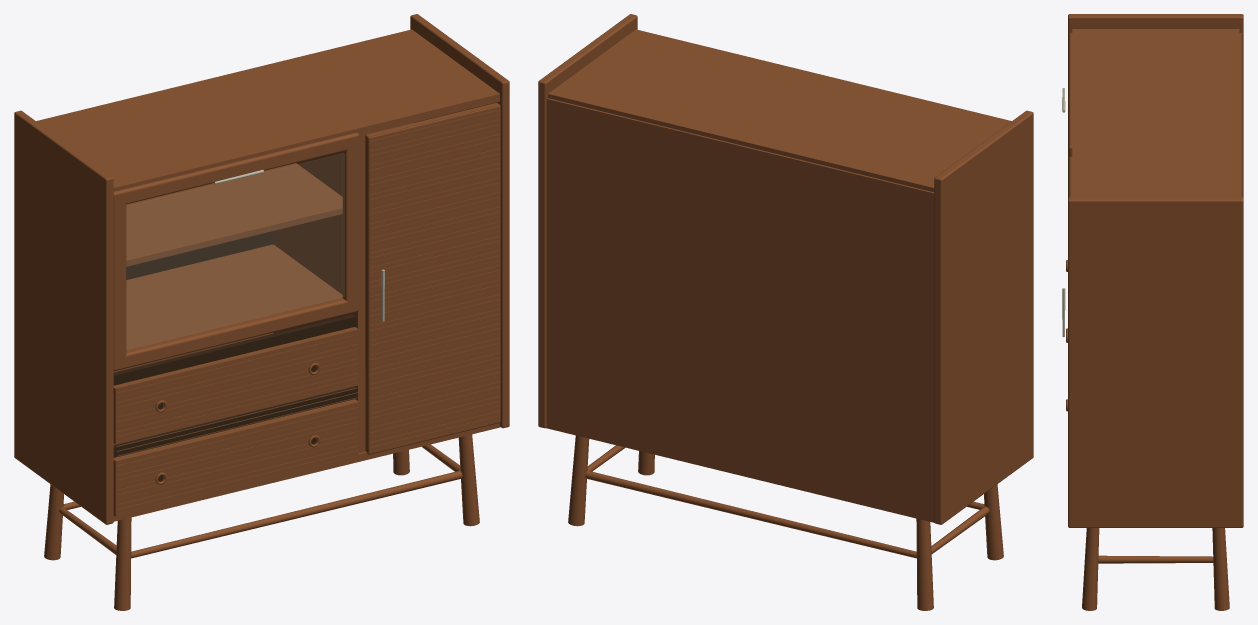
The model's file is otwo-den-fika.glb.
3 renders of one model, left to right at view 1: azimuth 30°, elevation 25°; view 2: azimuth 150°, elevation 25°; view 3: azimuth 270°, elevation 25°, orthographic. The views are drawn at different scales.
Visible parts, largest first — view 1: right closed door, raised side (×2), body horizontal (×2), clear glazing, drawer front (×2), glass cabinet bottom, interior shelf, glass door horizontal frame (×2), inner divider, drawer recess (×2), glass door vertical frame (×2), tapered solid wood leg (×3) (+2 smaller); view 2: back, raised side (×2), body horizontal, tapered solid wood leg (×3), leg cross stretcher; view 3: raised side (×2), body horizontal, tapered solid wood leg (×2), side leg stretcher, glass door horizontal frame, back.
Part boxes in pixels (box(x1,y1,x2,y2)): right closed door: box(365, 102, 500, 454); raised side (×2): box(14, 14, 509, 524); body horizontal (×2): box(36, 29, 500, 521); clear glazing: box(127, 153, 344, 349); drawer front (×2): box(113, 327, 358, 516); glass cabinet bottom: box(126, 244, 342, 350); interior shelf: box(126, 163, 342, 266); glass door horizontal frame (×2): box(113, 132, 359, 370); inner divider: box(273, 134, 364, 452); drawer recess (×2): box(113, 314, 356, 457); glass door vertical frame (×2): box(113, 141, 359, 366); tapered solid wood leg (×3): box(44, 434, 479, 610); back: box(546, 98, 934, 522); raised side (×2): box(538, 14, 1033, 524); body horizontal: box(548, 29, 1011, 192); tapered solid wood leg (×3): box(568, 435, 1003, 610); leg cross stretcher: box(585, 470, 916, 558); raised side (×2): box(1068, 14, 1243, 527); body horizontal: box(1072, 29, 1239, 197); tapered solid wood leg (×2): box(1082, 528, 1229, 610); side leg stretcher: box(1098, 555, 1213, 563); glass door horizontal frame: box(1068, 33, 1072, 155); back: box(1239, 33, 1241, 197).
Size of the model in its own units: 1 by 1.05 by 0.41.
